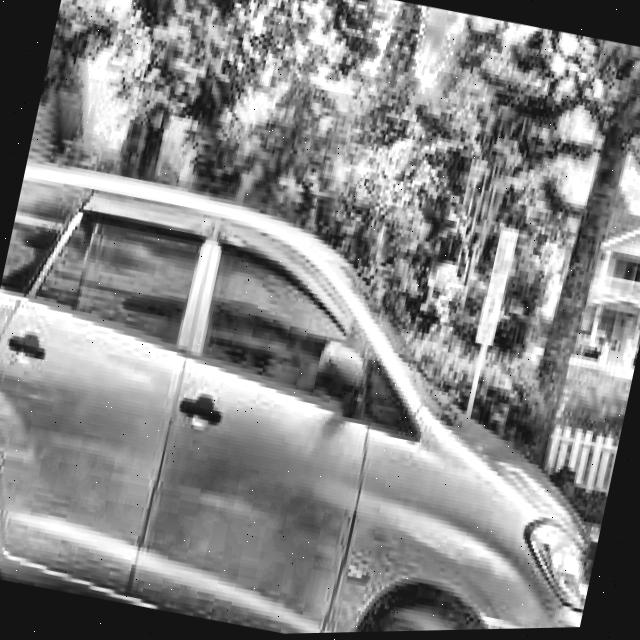light_vehicle: (0, 147, 640, 640)
